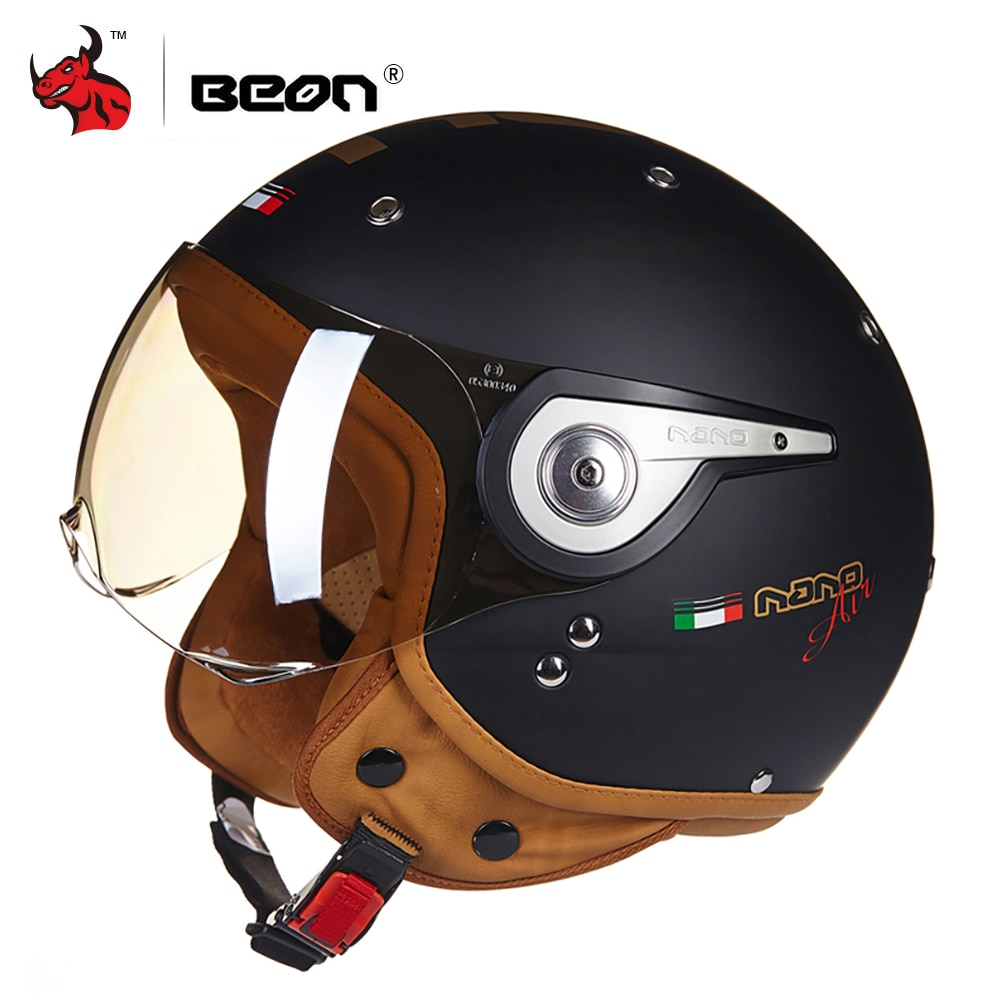with_helmet: (64, 116, 939, 885)
